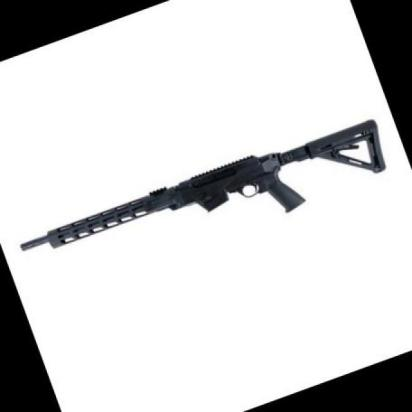Gun: (18, 117, 390, 255)
